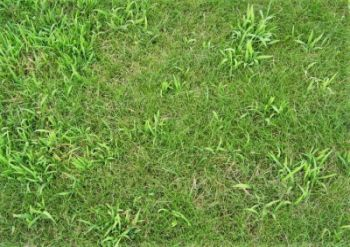crabgrass: (9, 18, 93, 227), (272, 144, 339, 212), (219, 18, 278, 63), (108, 211, 144, 247)
